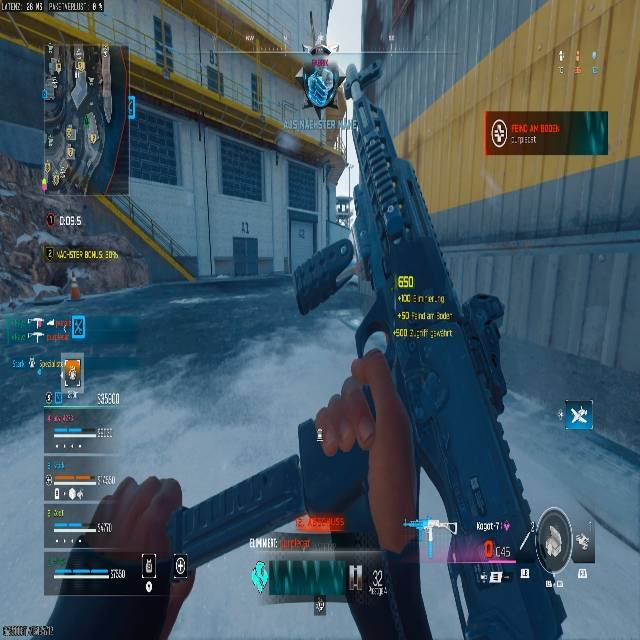head: (308, 39, 332, 65)
player: (294, 40, 384, 117)
